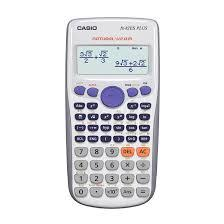Calculator: (60, 13, 167, 211)
